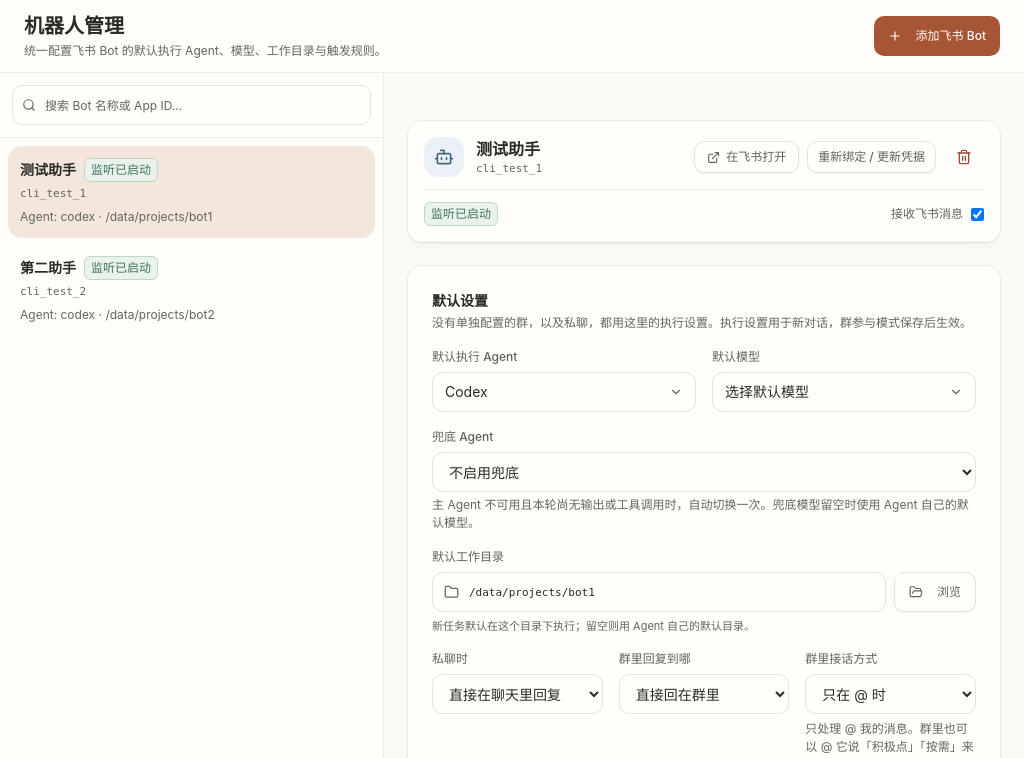
BotManagement 保存期间切换对象与继续编辑 › 保存 A 期间切到 B：A 成功不清 B 的草稿
Expected: the heading "测试助手" is shown, [476,137,542,161]
Note: 改 A 并提交，请求停在半空。
Type "-a" into the field showing "/data/projects/bot1" at {"x": 659, "y": 592}, box [432,572,886,612]
(page scrolled)
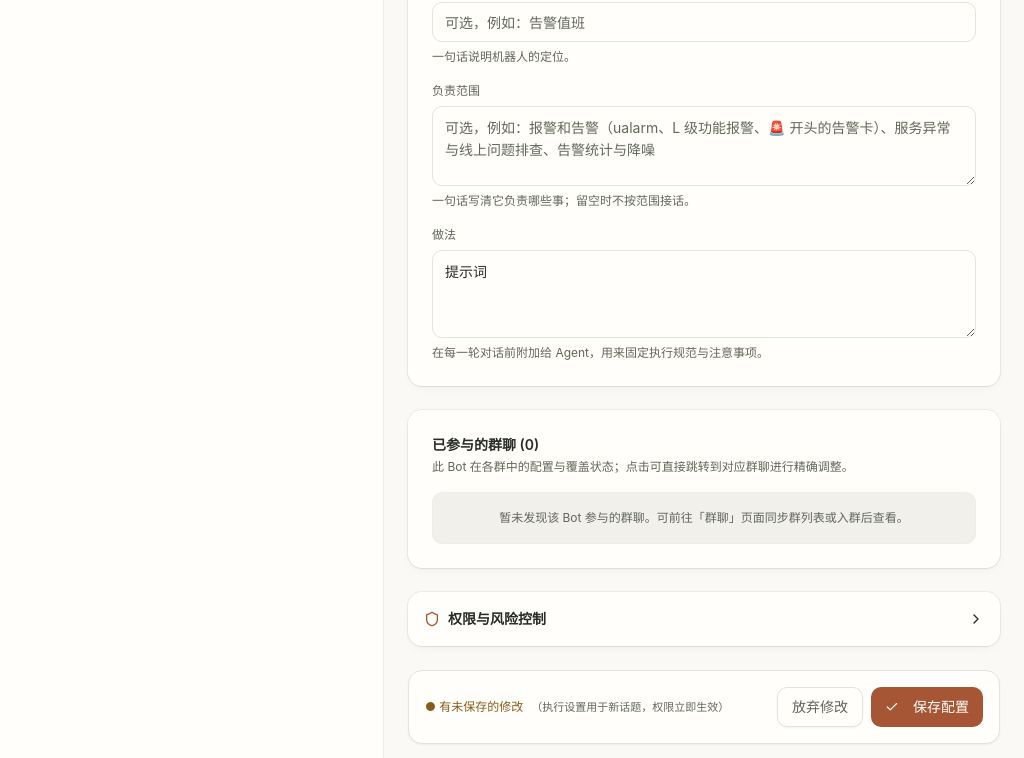
Click the button "保存配置" at {"x": 927, "y": 707}, box [871,687,983,727]
(page scrolled)
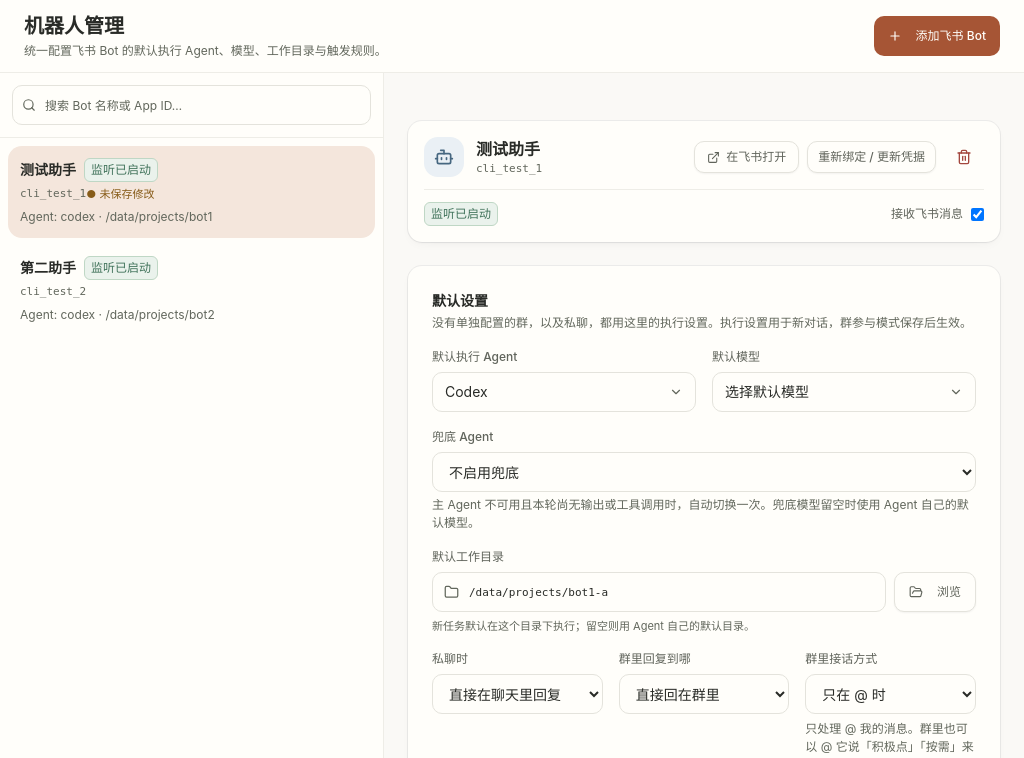
Note: 切到 B 并给它也留一份草稿。
Click the button "第二助手 监听已启动 cli_test_2 Agent: codex · /data/projects/bot2" at {"x": 48, "y": 268}, box [8,244,375,336]
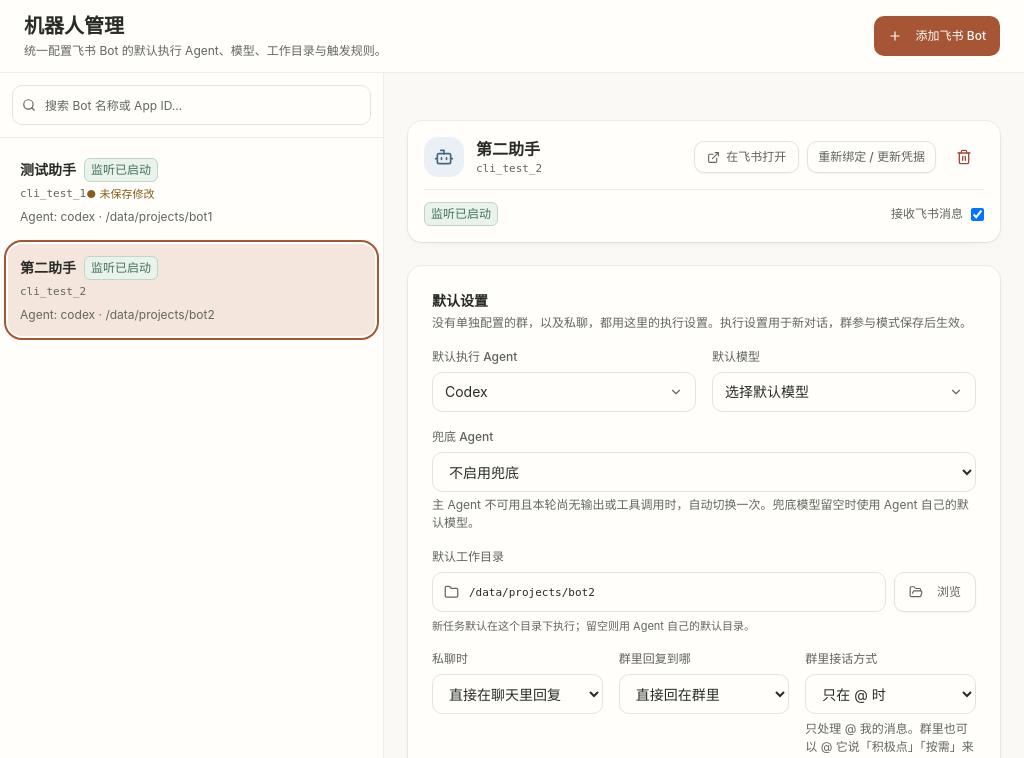
Now the heading "第二助手" is shown, box [476,137,542,161]
Type "-b" into the field showing "/data/projects/bot2" at {"x": 659, "y": 592}, box [432,572,886,612]
(page scrolled)
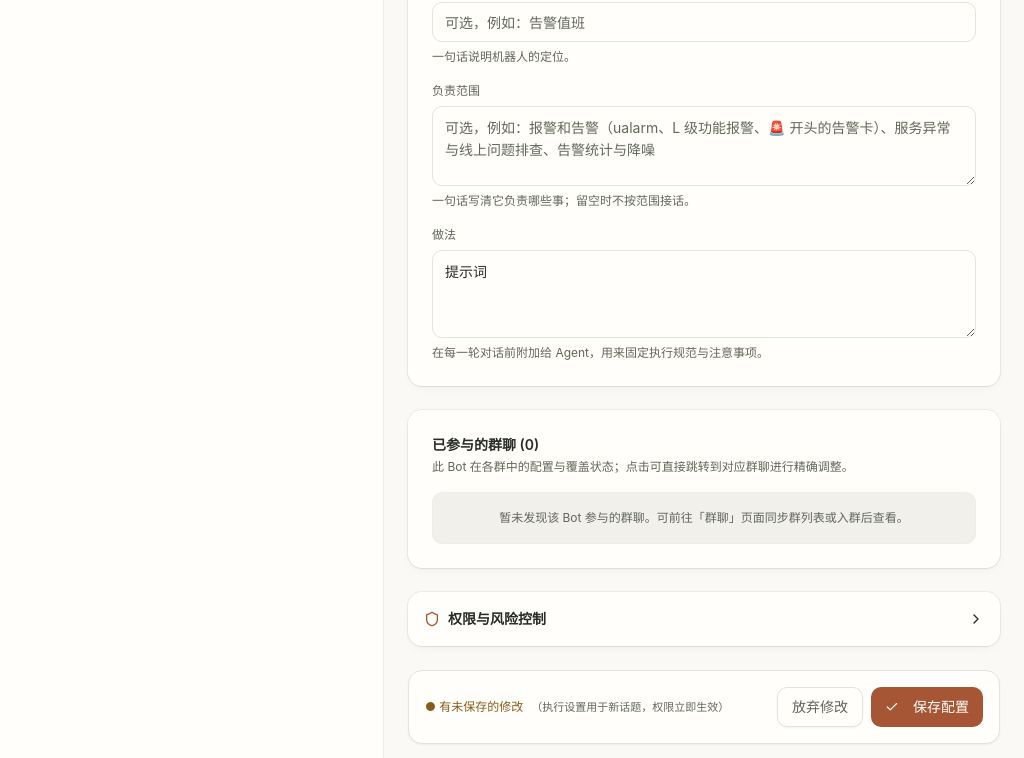
Now the text "● 有未保存的修改" is shown, box [425,699,523,714]
